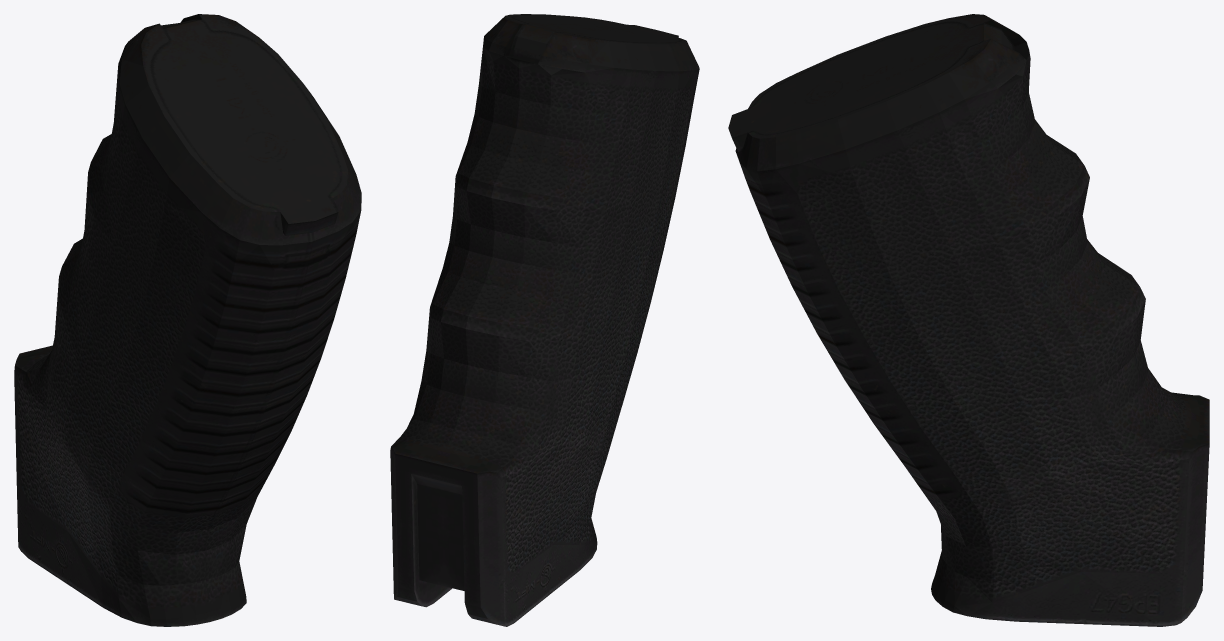
3 renders of one model, left to right at view 1: azimuth 30°, elevation 25°; view 2: azimuth 150°, elevation 25°; view 3: azimuth 270°, elevation 25°, orthographic. The views are drawn at different scales.
Visible parts, largest first — view 1: TW_63f4da90f31d4a33b87bd054_PZ_Import; view 2: TW_63f4da90f31d4a33b87bd054_PZ_Import; view 3: TW_63f4da90f31d4a33b87bd054_PZ_Import.
Boxes of the visible parts, x1,y1,x2,y2 form: TW_63f4da90f31d4a33b87bd054_PZ_Import: (14, 14, 361, 626); TW_63f4da90f31d4a33b87bd054_PZ_Import: (390, 14, 699, 626); TW_63f4da90f31d4a33b87bd054_PZ_Import: (728, 14, 1209, 626).
Bounding box in the file's own units: 0.0182 × 0.046 × 0.0599.
Materials: 1 (1 with a texture image).
